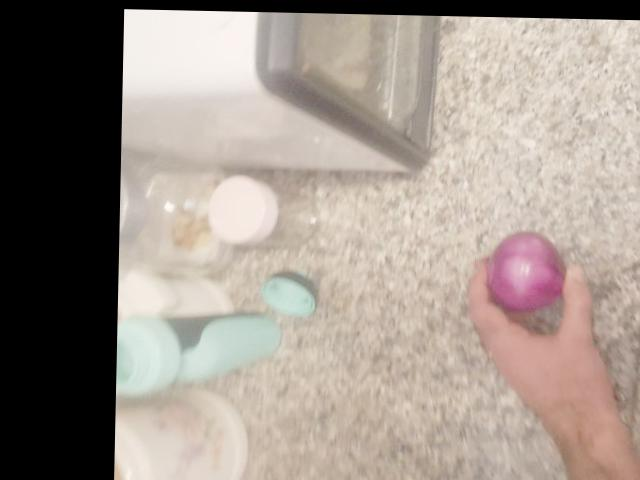onion: (344, 40, 431, 133)
